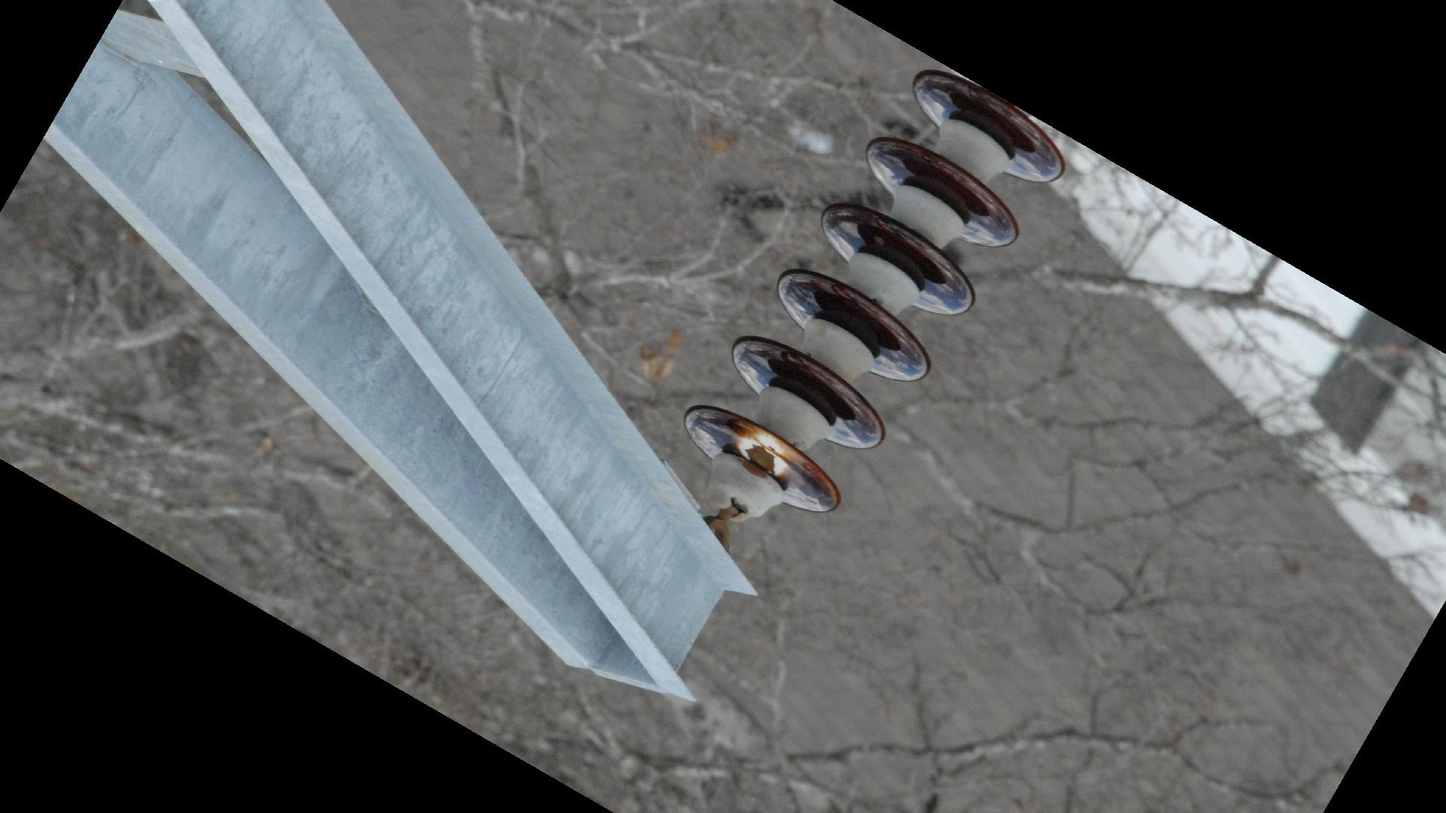insulator: (678, 65, 1073, 522)
insulator_flashover: (734, 420, 800, 480)
